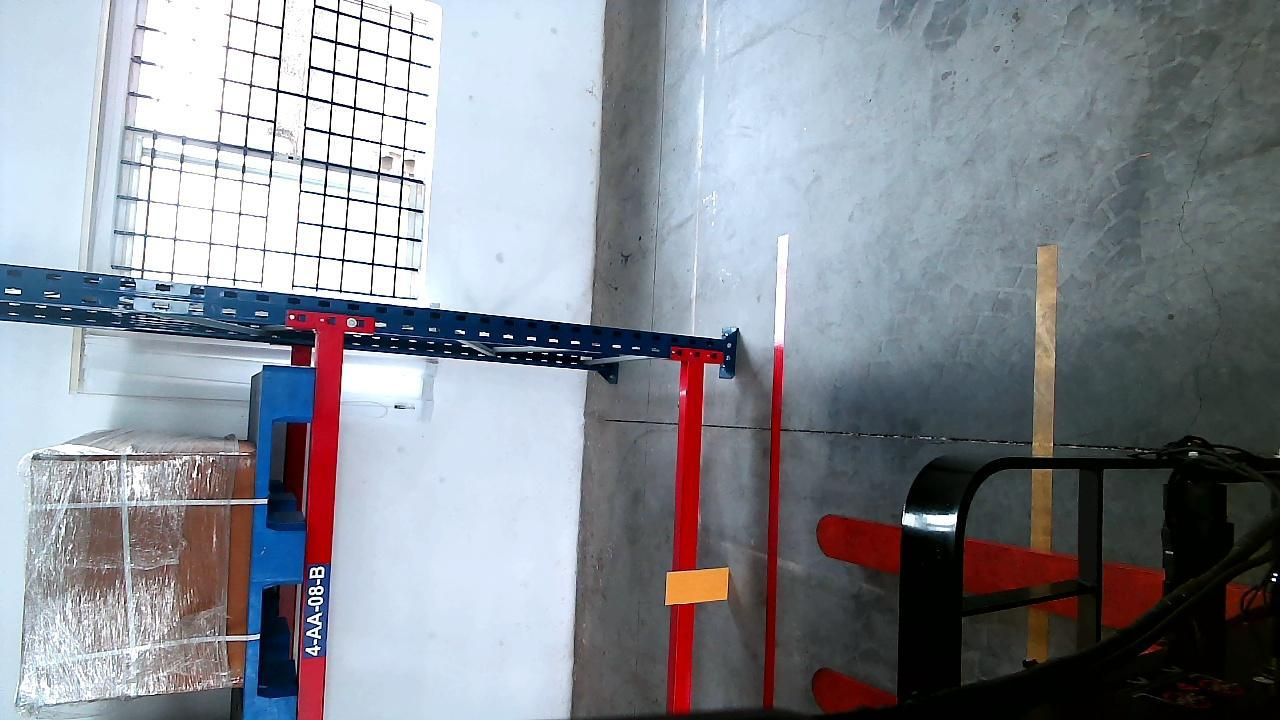red_line: (758, 232, 790, 709)
yellow_line: (1027, 238, 1056, 665)
